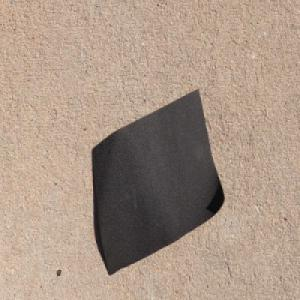PaintChip: (91, 87, 225, 277)
